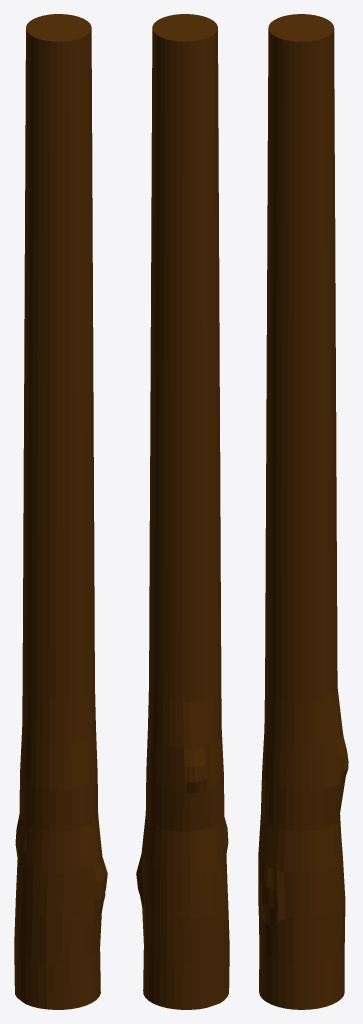
File: drvo1.fbx
The picture shows the model from 3 angles, left to right: view 1: azimuth 30°, elevation 25°; view 2: azimuth 210°, elevation 25°; view 3: azimuth 270°, elevation 25°; orthographic projection.
Parts seen in each view (by area): view 1: sumadrvo1; view 2: sumadrvo1; view 3: sumadrvo1.
Boxes of the visible parts, bbox=[...] form: sumadrvo1: bbox=[14, 14, 107, 1009]; sumadrvo1: bbox=[136, 14, 229, 1009]; sumadrvo1: bbox=[258, 14, 348, 1009].
Bounding box in the file's own units: 205 × 2527 × 215.
